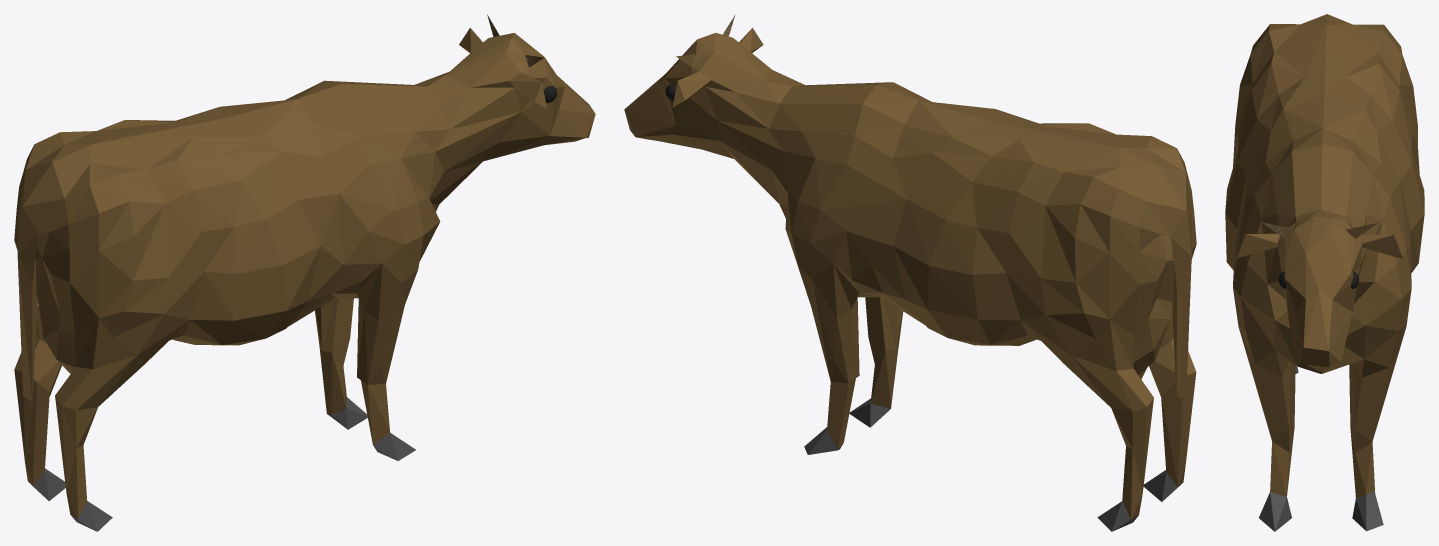
File: Cow.fbx
3 views of the same model, side by side, from view 1: azimuth 30°, elevation 25°; view 2: azimuth 150°, elevation 25°; view 3: azimuth 270°, elevation 25° (orthographic).
Visible parts, largest first — view 1: grp1; view 2: grp1; view 3: grp1.
Part boxes in pixels (x1,y1,x2,y2): grp1: (14,14,595,531); grp1: (624,15,1196,531); grp1: (1225,14,1424,531).
Size of the model in its own units: 29.08 by 18.03 by 8.75.
